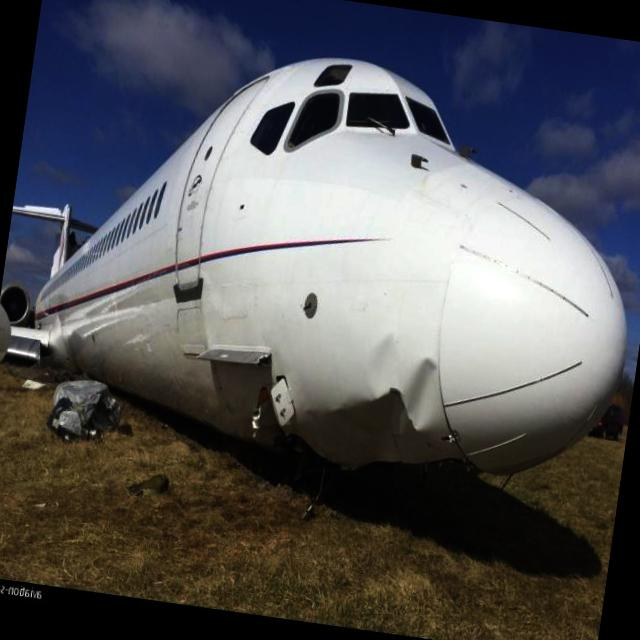dent: (402, 356, 444, 430), (369, 332, 404, 396)
